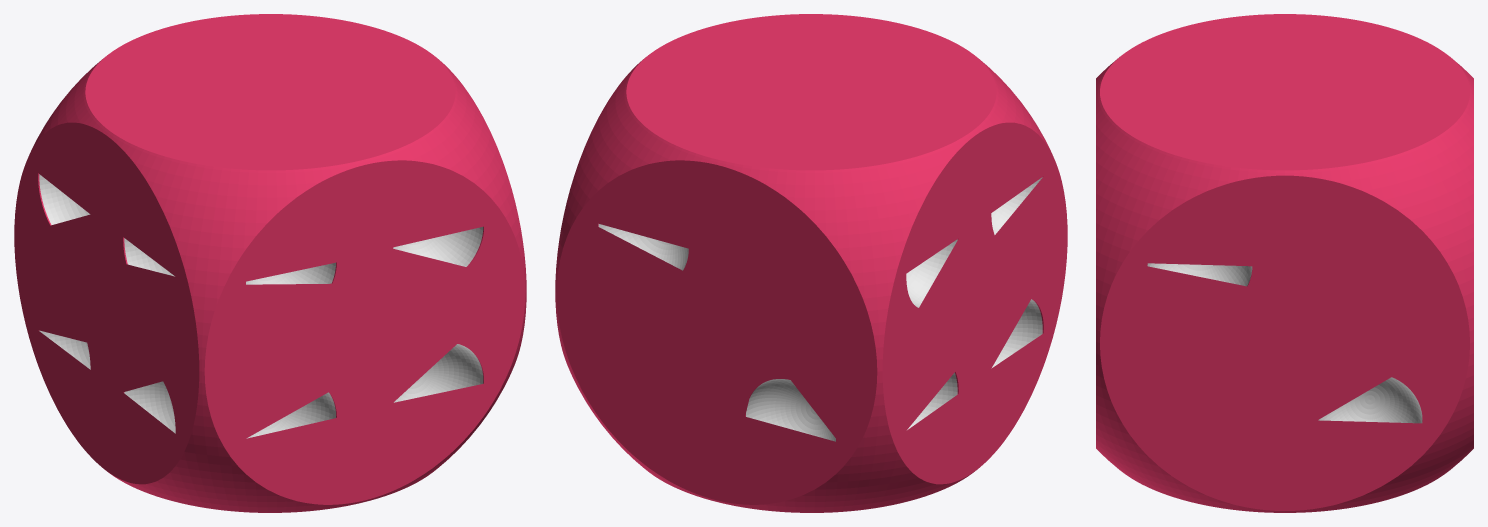
The model's file is _ice4.fbx.
The picture shows the model from 3 angles, left to right: view 1: azimuth 30°, elevation 25°; view 2: azimuth 150°, elevation 25°; view 3: azimuth 270°, elevation 25°; orthographic projection.
Visible parts, largest first — view 1: Cube; view 2: Cube; view 3: Cube.
Boxes of the visible parts, x1=… form: Cube: x1=14, y1=14, x2=526, y2=512; Cube: x1=555, y1=14, x2=1067, y2=512; Cube: x1=1096, y1=14, x2=1473, y2=512.
Bounding box in the file's own units: 200 × 200 × 200.
